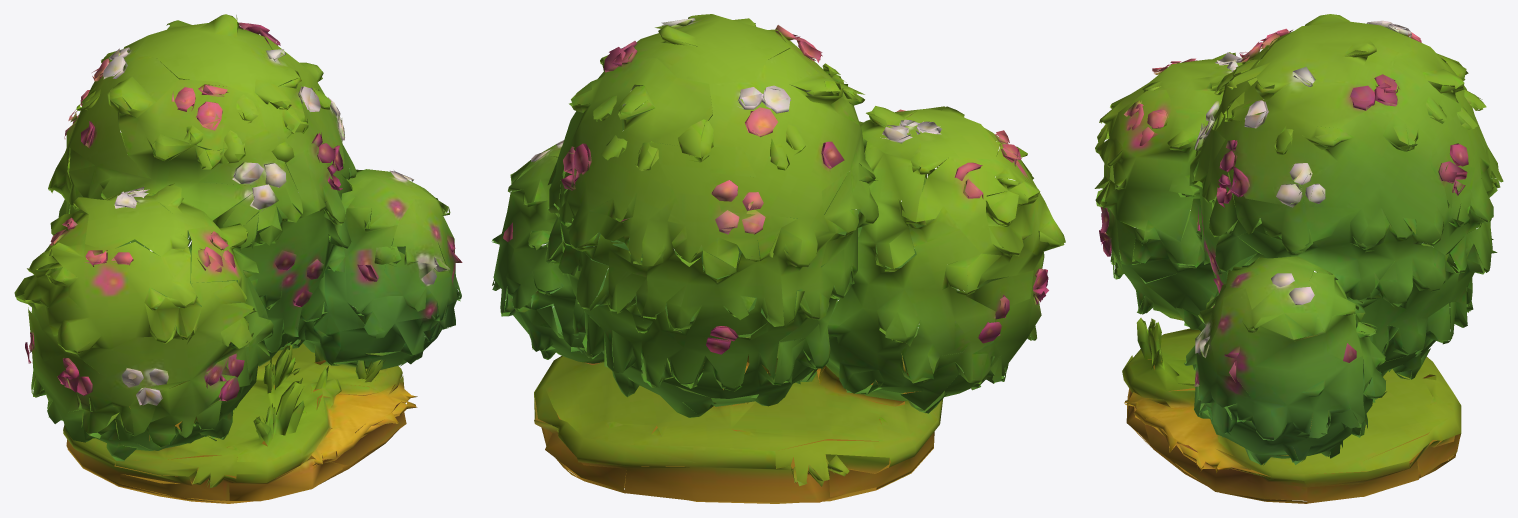
The model's file is flowering_bush.glb.
3 renders of one model, left to right at view 1: azimuth 30°, elevation 25°; view 2: azimuth 150°, elevation 25°; view 3: azimuth 270°, elevation 25°, orthographic. The views are drawn at different scales.
Visible parts, largest first — view 1: SkyRally_prop_forest_flowering_bush; view 2: SkyRally_prop_forest_flowering_bush; view 3: SkyRally_prop_forest_flowering_bush.
Part boxes in pixels (box(x1,y1,x2,y2)): SkyRally_prop_forest_flowering_bush: box(14, 14, 462, 503); SkyRally_prop_forest_flowering_bush: box(491, 14, 1065, 503); SkyRally_prop_forest_flowering_bush: box(1094, 14, 1503, 503).
Bounding box in the file's own units: 12 × 9.84 × 9.2.
1 material, 1 textured.
